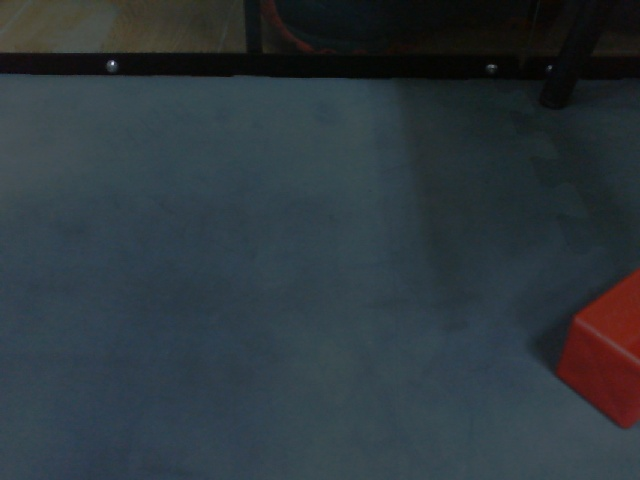RedSample: (555, 259, 640, 432)
